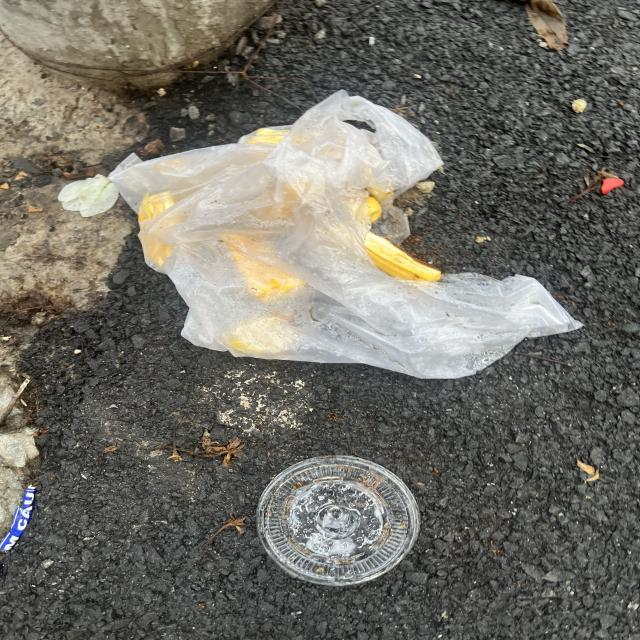lid: (255, 453, 423, 588)
trash bag: (106, 86, 587, 382)
